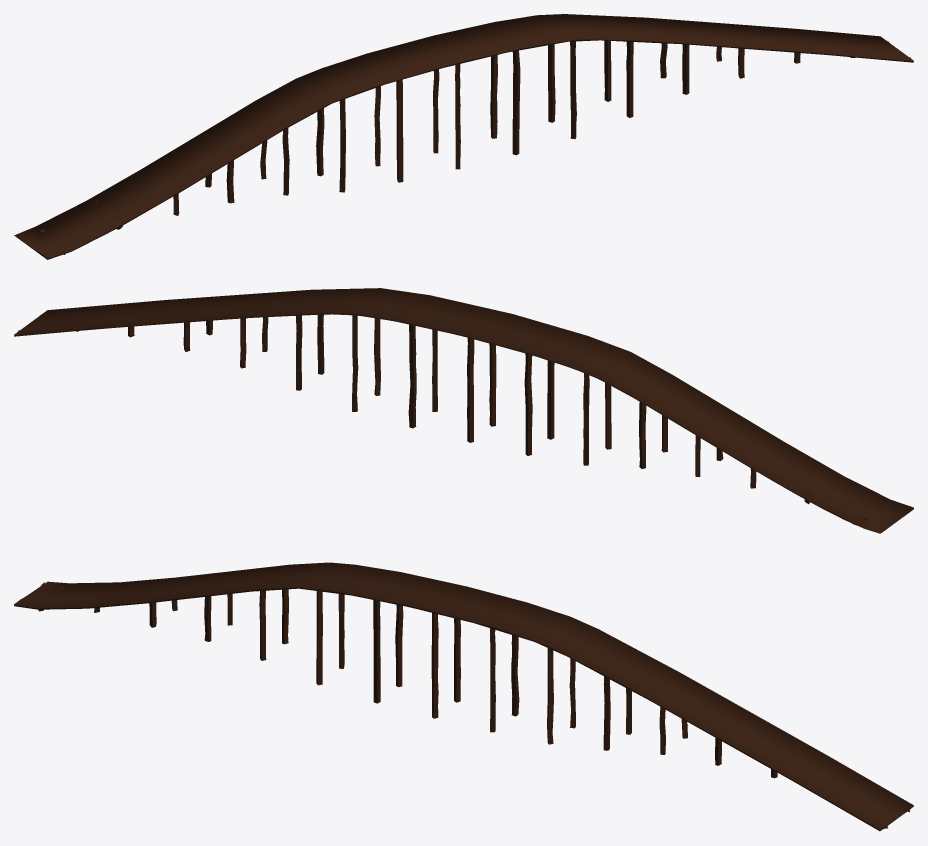
The model's file is tilts.fbx.
3 views of the same model, one above another, from view 1: azimuth 30°, elevation 25°; view 2: azimuth 150°, elevation 25°; view 3: azimuth 330°, elevation 25° (orthographic).
Visible parts, largest first — view 1: Procedural Wooden Bridge; view 2: Procedural Wooden Bridge; view 3: Procedural Wooden Bridge.
Boxes of the visible parts, x1,y1,x2,y2 form: Procedural Wooden Bridge: [14, 14, 913, 259]; Procedural Wooden Bridge: [14, 288, 913, 533]; Procedural Wooden Bridge: [14, 562, 913, 831].
Size of the model in its own units: 49.45 by 6.07 by 3.3.
